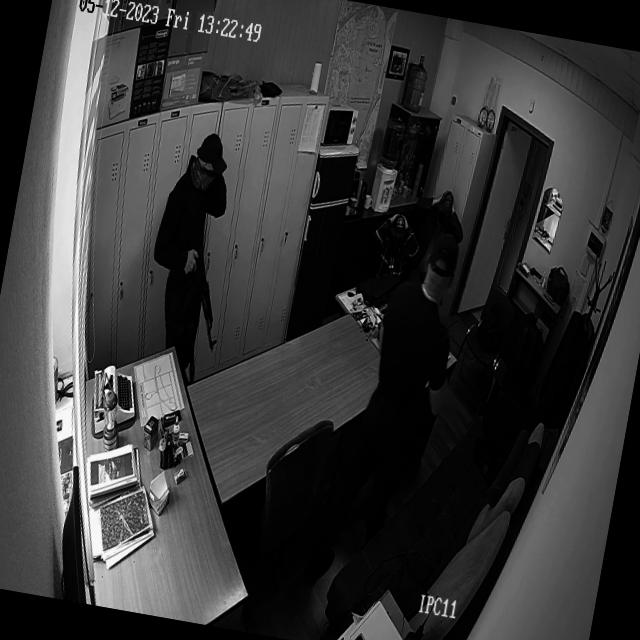gun: (178, 238, 232, 353)
person: (348, 226, 461, 599), (423, 176, 474, 247), (372, 203, 420, 270)
person with a gun: (134, 106, 245, 389)
